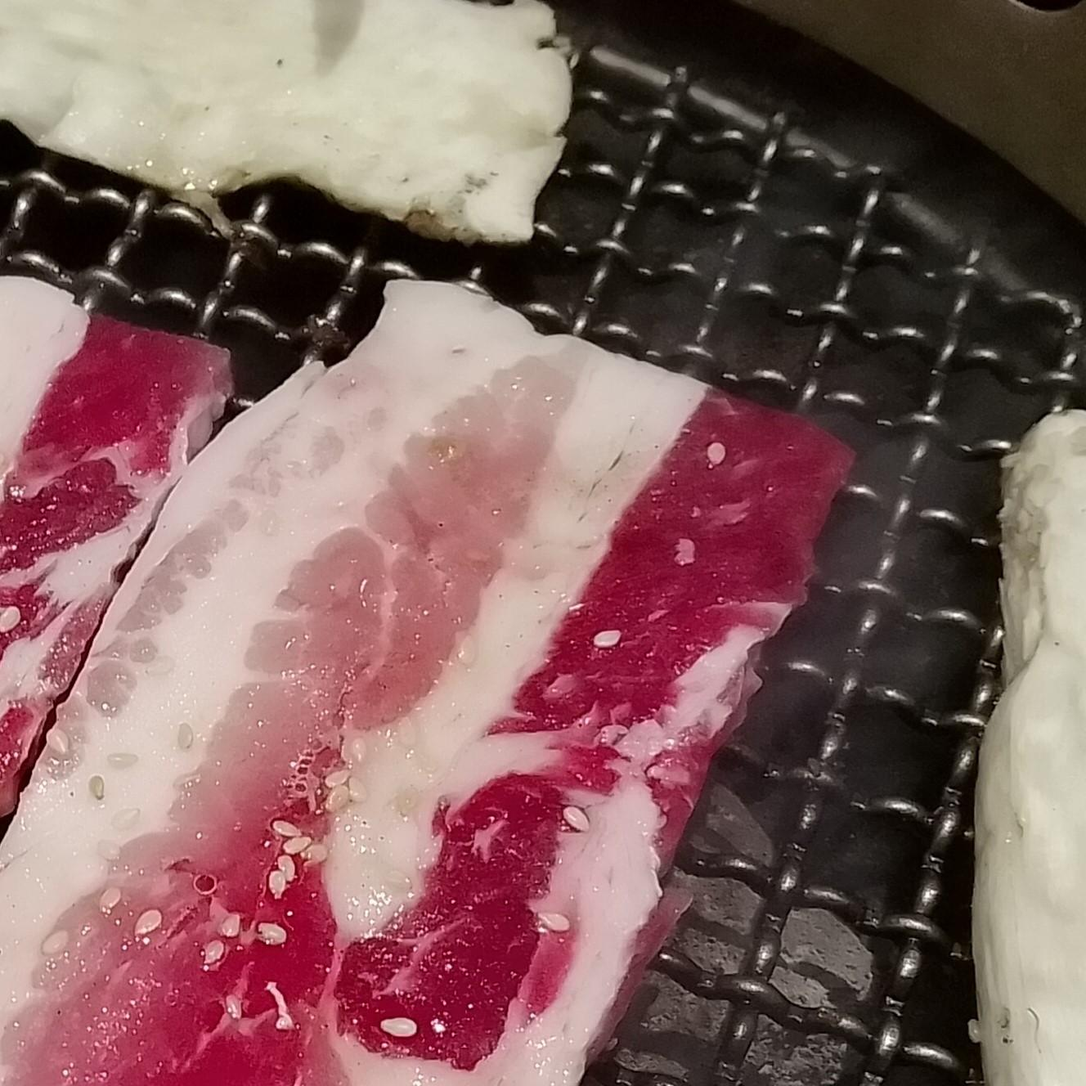Undercooked: (0, 281, 848, 1085), (0, 277, 229, 815)
